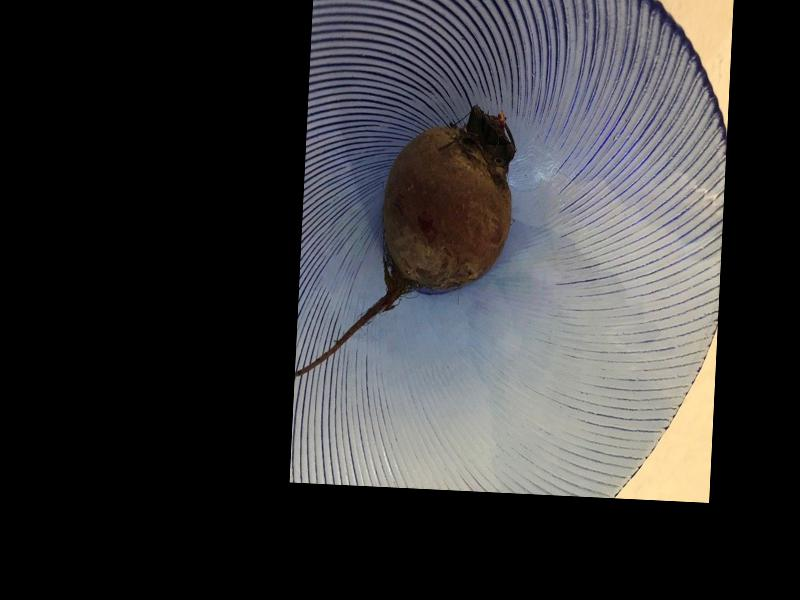Beet: (294, 98, 516, 385)
